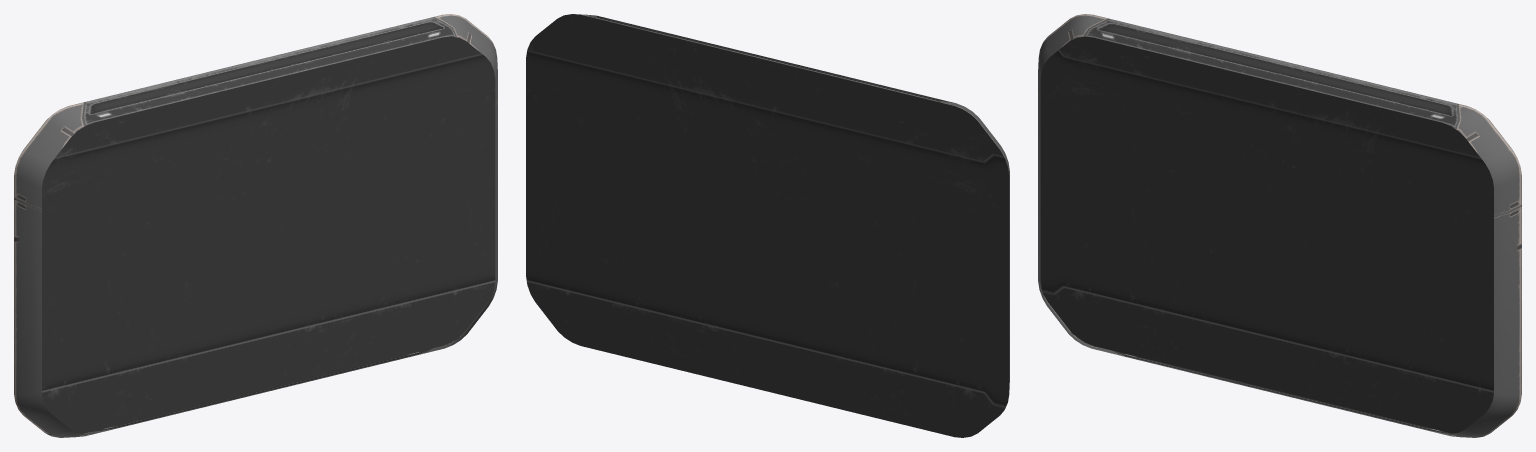
The model's file is computer.glb.
The picture shows the model from 3 angles, left to right: view 1: azimuth 30°, elevation 25°; view 2: azimuth 150°, elevation 25°; view 3: azimuth 330°, elevation 25°; orthographic projection.
Parts seen in each view (by area): view 1: Computer; view 2: Computer; view 3: Computer.
Part boxes in pixels (x1=…): Computer: x1=14, y1=14, x2=497, y2=437; Computer: x1=526, y1=14, x2=1009, y2=437; Computer: x1=1038, y1=14, x2=1521, y2=437.
Size of the model in its own units: 3.72 by 2.43 by 0.1711.
1 material, 1 textured.
